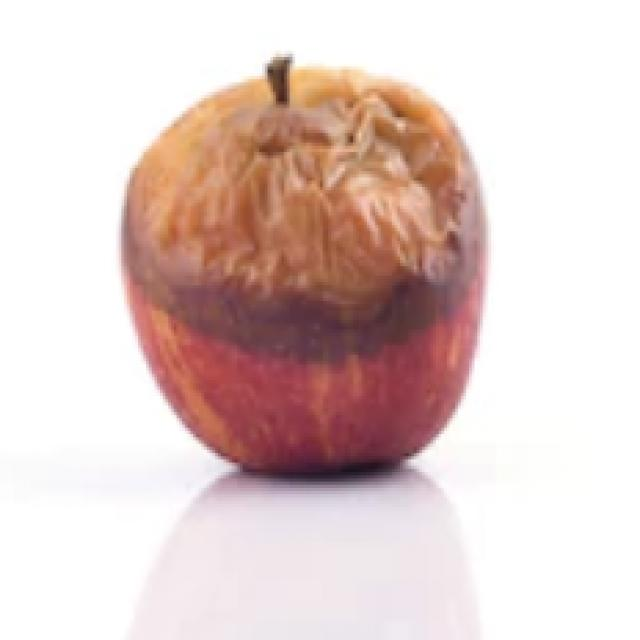rotten_apple: (121, 51, 487, 468)
